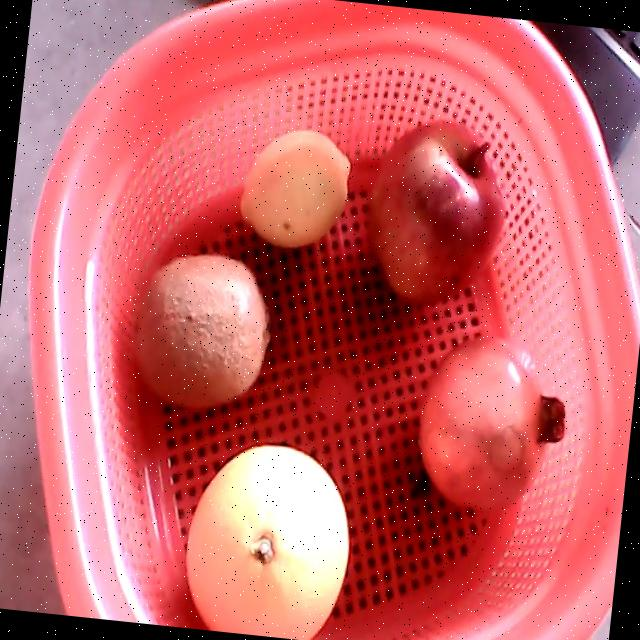apple: (364, 120, 506, 304)
kiwi: (135, 255, 268, 407)
lemon: (240, 129, 352, 248)
orange: (186, 445, 349, 639)
pomegranate: (418, 335, 566, 511)
